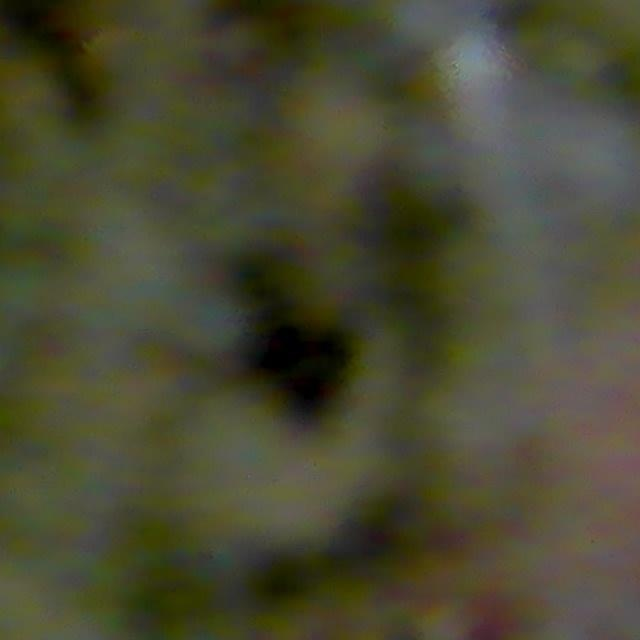SeaGrape: (433, 27, 513, 109), (380, 0, 453, 53)
